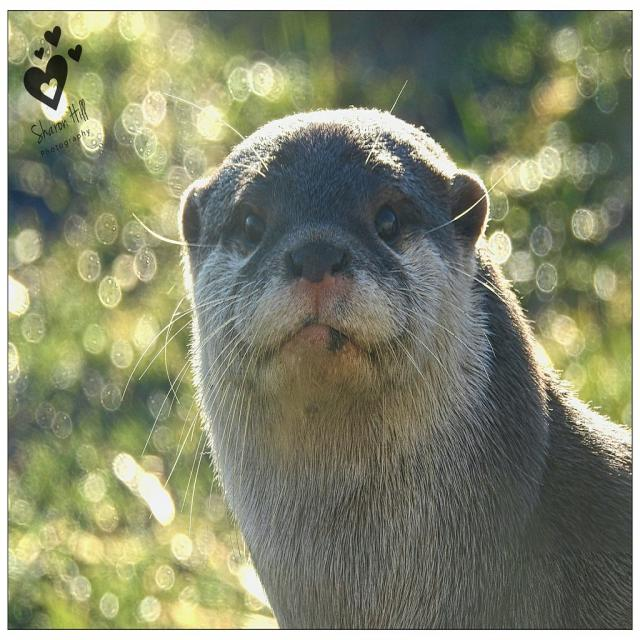otter: (186, 107, 632, 628)
